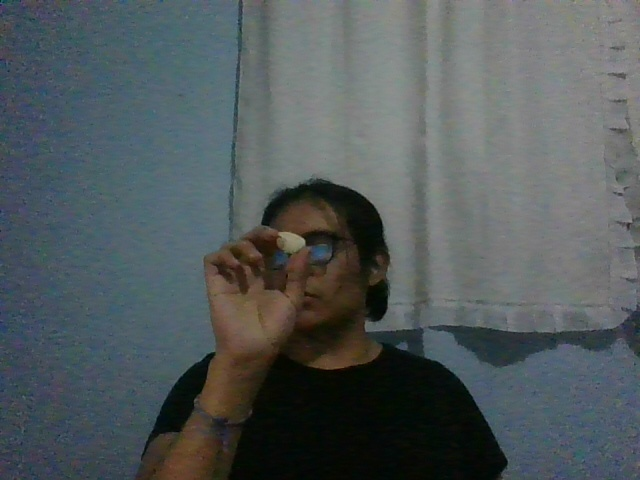goma: (276, 232, 305, 253)
